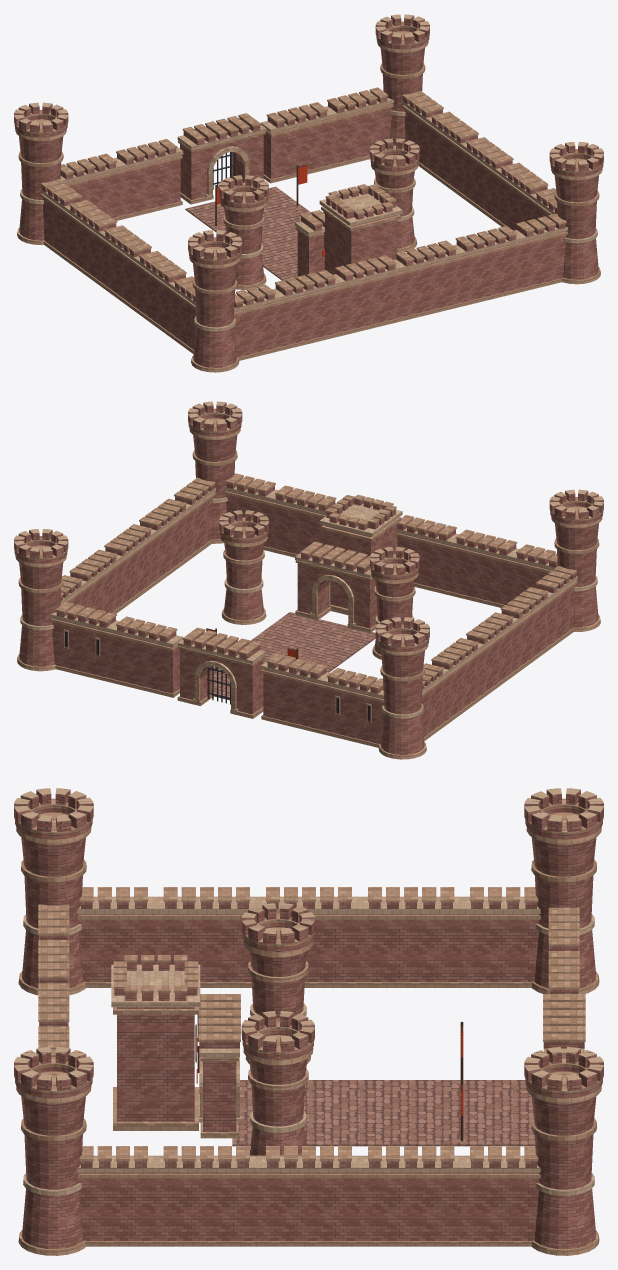
The model's file is Fortress_Example_Complete.obj.
The picture shows the model from 3 angles, top to bottom: view 1: azimuth 30°, elevation 25°; view 2: azimuth 150°, elevation 25°; view 3: azimuth 270°, elevation 25°; orthographic projection. The views are drawn at different scales.
Visible parts, largest first — view 1: Brick_Rose, Stone_Sand, Stone_Light, Paving; view 2: Brick_Rose, Stone_Sand, Stone_Light, Paving, Iron_Black; view 3: Brick_Rose, Stone_Sand, Stone_Light, Paving.
Boxes of the visible parts, bbox=[...] form: Brick_Rose: bbox=[14, 16, 603, 367]; Stone_Sand: bbox=[14, 21, 603, 372]; Stone_Light: bbox=[14, 14, 603, 331]; Paving: bbox=[185, 186, 312, 282]; Brick_Rose: bbox=[14, 403, 603, 754]; Stone_Sand: bbox=[14, 408, 603, 759]; Stone_Light: bbox=[14, 401, 603, 718]; Paving: bbox=[213, 612, 375, 700]; Iron_Black: bbox=[65, 631, 370, 720]; Brick_Rose: bbox=[14, 790, 603, 1248]; Stone_Sand: bbox=[14, 798, 603, 1255]; Stone_Light: bbox=[14, 788, 603, 1195]; Paving: bbox=[232, 1080, 535, 1146].
Size of the model in its own units: 27.12 by 7.83 by 23.12.
Materials: 7 (7 with a texture image).
